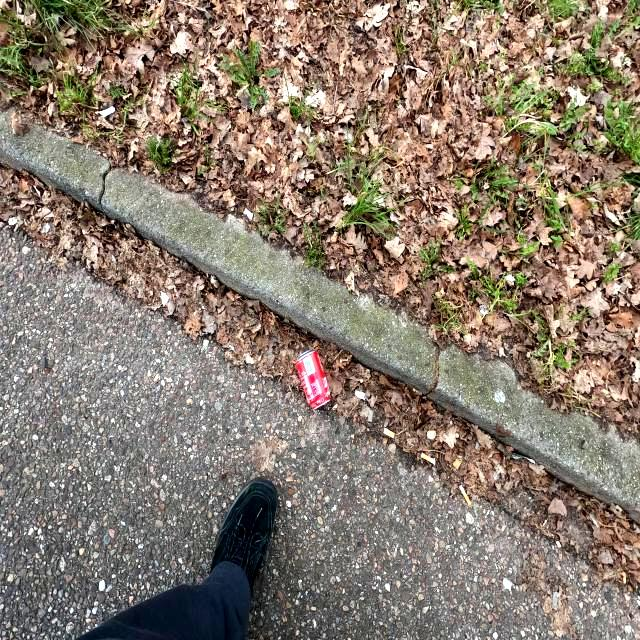Metal: (294, 348, 332, 410)
